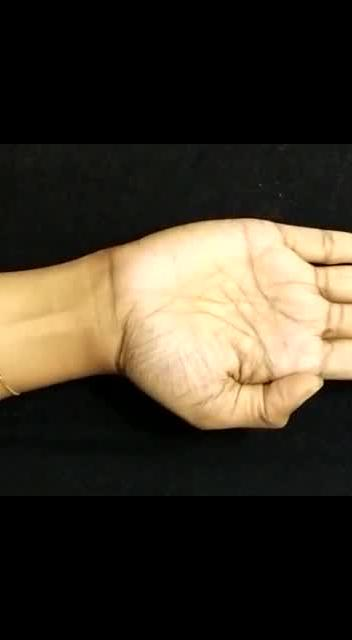pataka: (120, 221, 352, 445)
